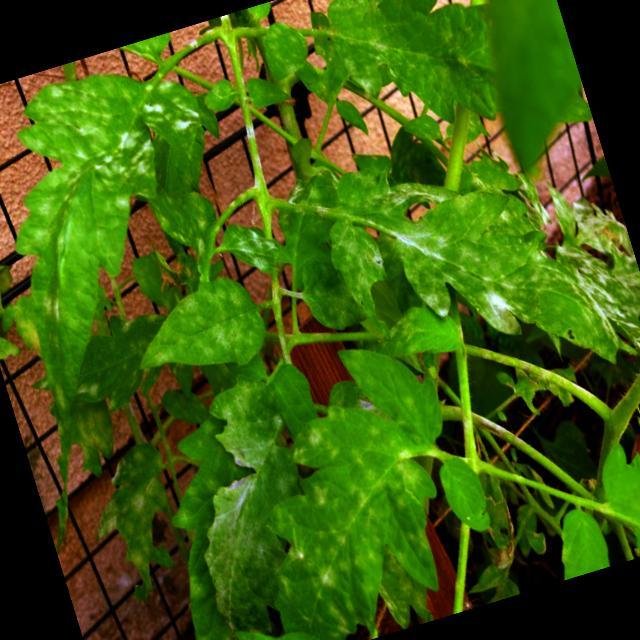Tomato mold leaf: (0, 41, 280, 433), (310, 111, 620, 436), (216, 323, 507, 640), (315, 0, 521, 158), (107, 262, 284, 394), (96, 442, 200, 600), (222, 208, 296, 284)
